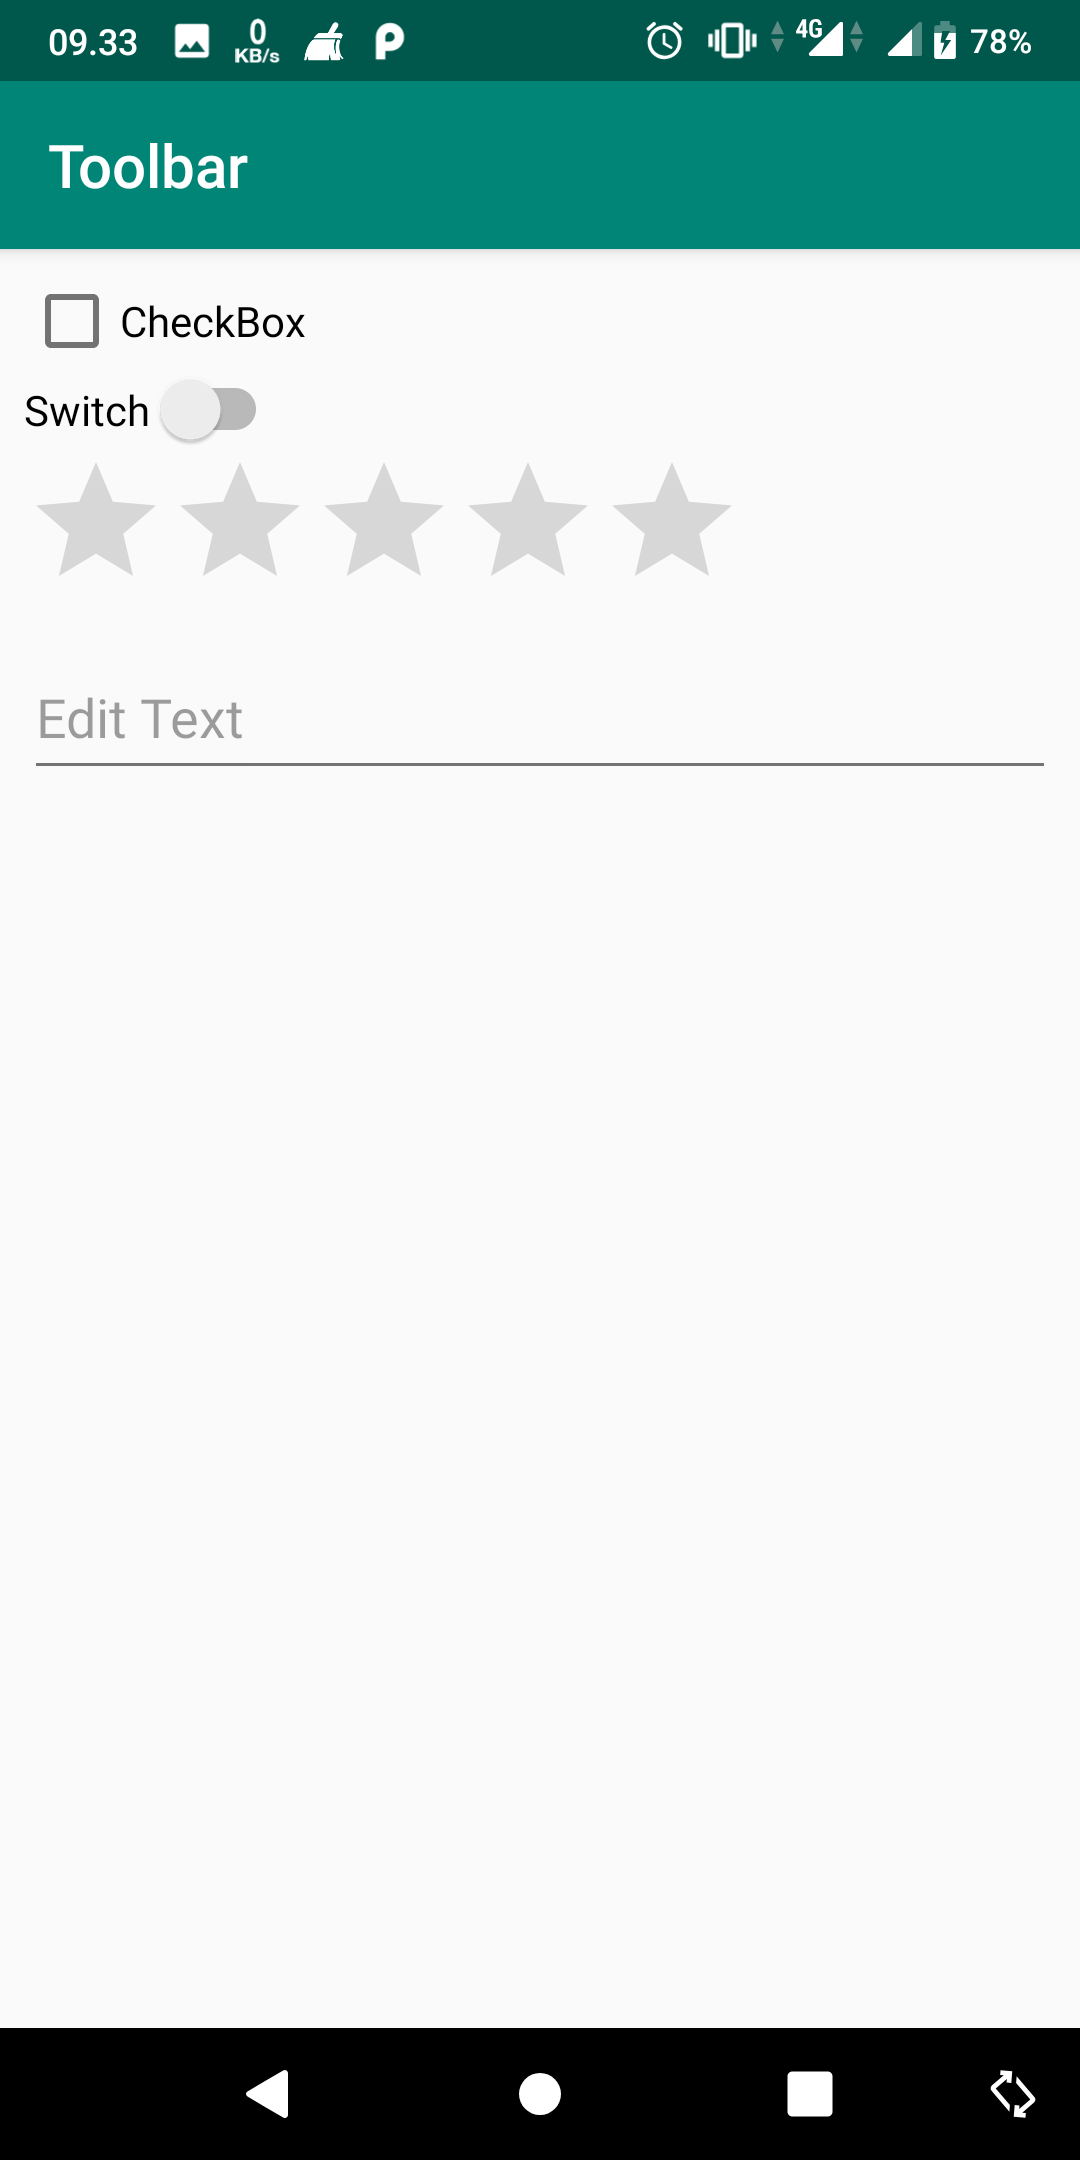checkBox: (34, 282, 309, 354)
editText: (22, 674, 1057, 780)
ratingBar: (28, 457, 748, 585)
switch: (12, 377, 273, 448)
toolbar: (3, 80, 1080, 247)
